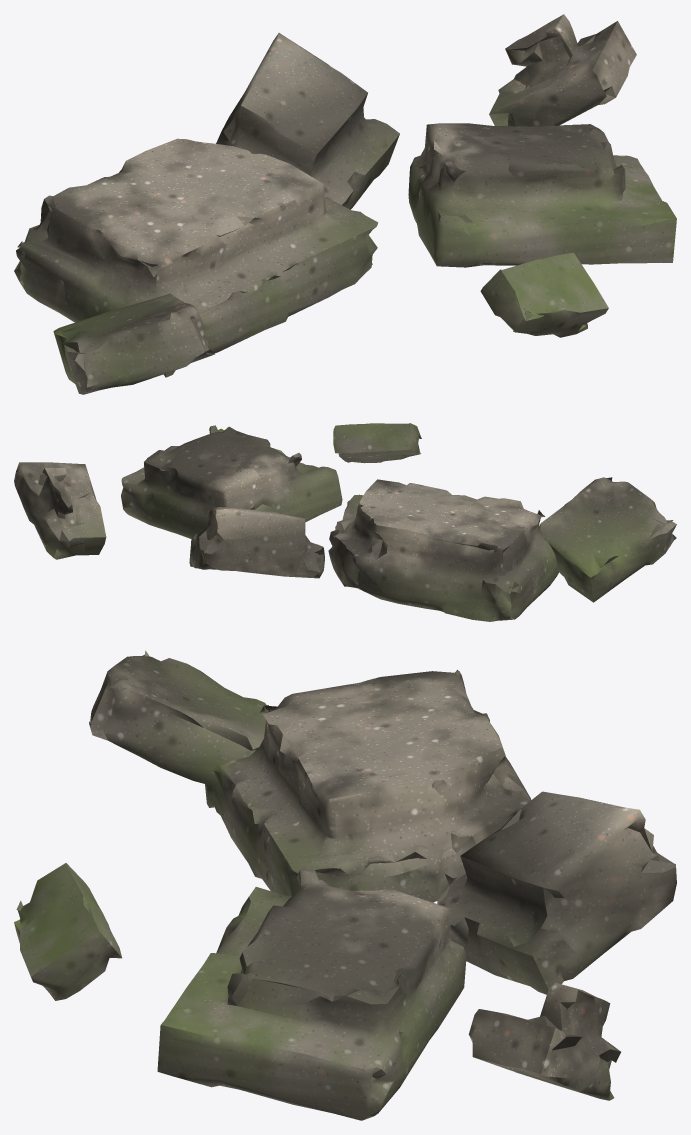
Rendered from BeachRock_C.gltf.
3 views of the same model, one above another, from view 1: azimuth 30°, elevation 25°; view 2: azimuth 150°, elevation 25°; view 3: azimuth 270°, elevation 25° (orthographic). The views are drawn at different scales.
Parts seen in each view (by area): view 1: BeachRock_C; view 2: BeachRock_C; view 3: BeachRock_C.
Part boxes in pixels (x1,y1,x2,y2): BeachRock_C: [14, 14, 676, 394]; BeachRock_C: [14, 423, 676, 621]; BeachRock_C: [14, 650, 676, 1120].
Bounding box in the file's own units: 2.3 × 0.4464 × 1.52.
Materials: 1 (1 with a texture image).
